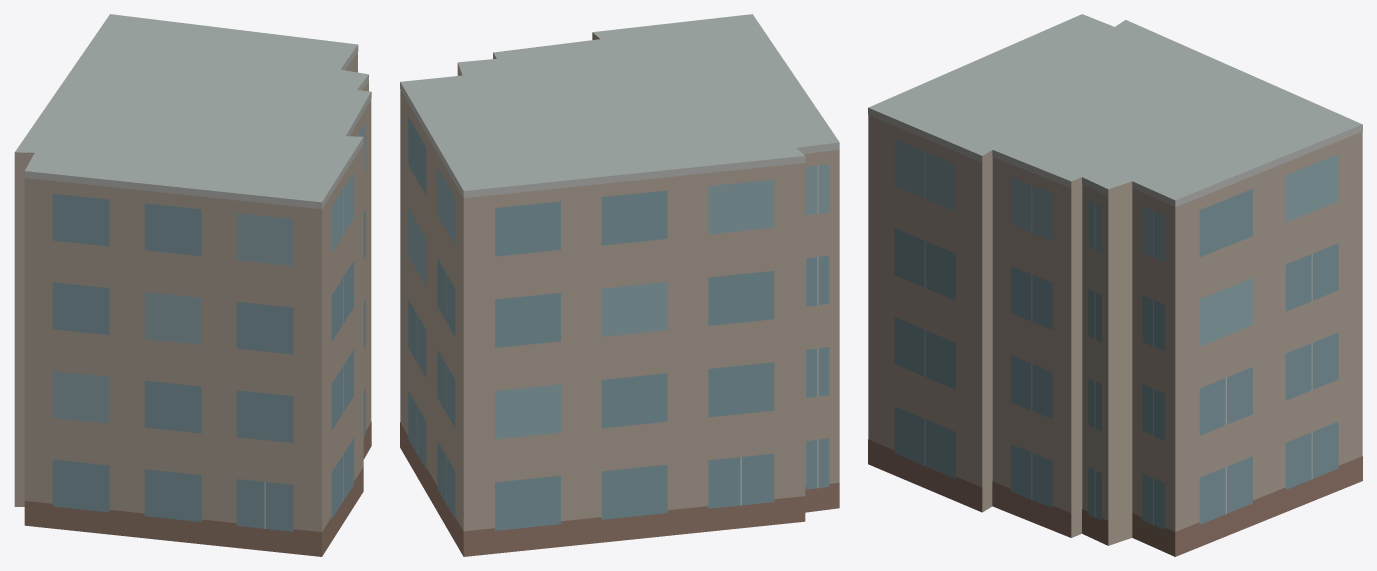
Rendered from survey-upis-32919321.glb.
3 views of the same model, side by side, from view 1: azimuth 30°, elevation 25°; view 2: azimuth 150°, elevation 25°; view 3: azimuth 270°, elevation 25° (orthographic). The views are drawn at different scales.
Visible parts, largest first — view 1: survey-upis-32919321.tmp; view 2: survey-upis-32919321.tmp; view 3: survey-upis-32919321.tmp.
Part boxes in pixels (x1=…): survey-upis-32919321.tmp: x1=14, y1=14, x2=371, y2=556; survey-upis-32919321.tmp: x1=400, y1=14, x2=839, y2=556; survey-upis-32919321.tmp: x1=868, y1=14, x2=1362, y2=556.
Bounding box in the file's own units: 14.02 × 12.5 × 15.73.
